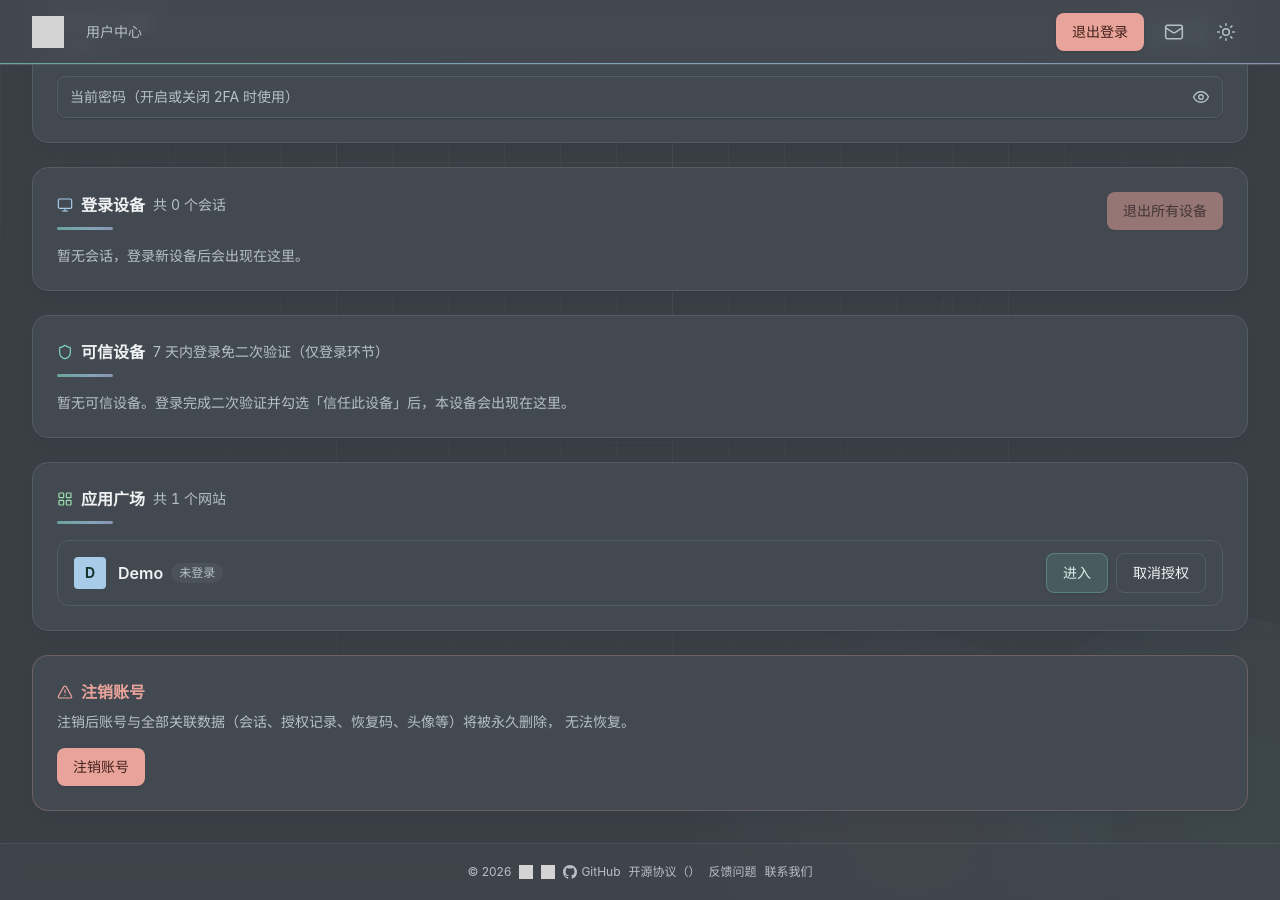
it: DashboardPage › 仅回程登出的网站取消授权后提示已通知退出
This screenshot has width=1280, height=900.
(page scrolled)
Expected: the text "Demo" is shown, [118, 561, 163, 585]
Click the button "取消授权". click: (1161,573)
box: [1116, 553, 1206, 593]
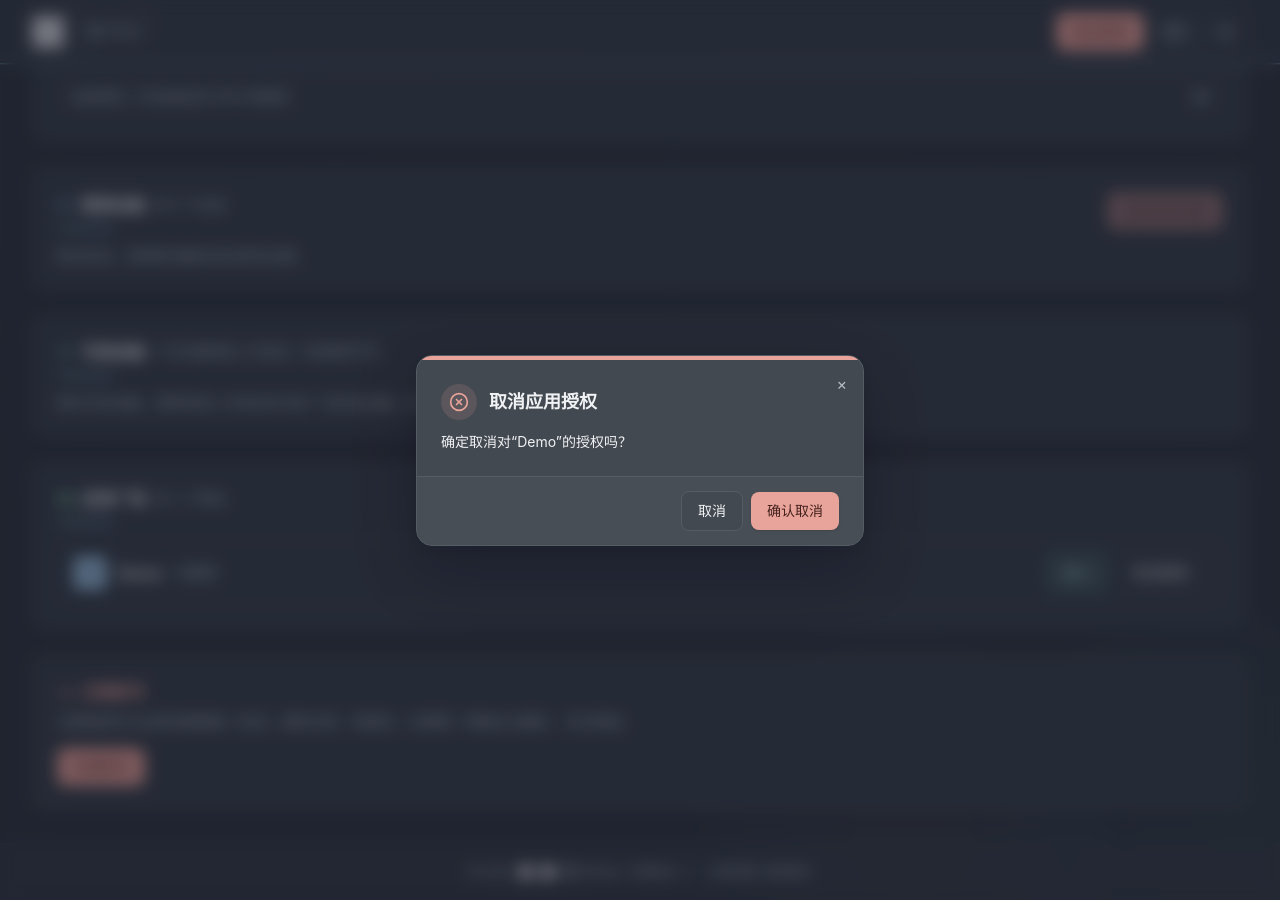
Click the button "确认取消". click: (795,510)
box: [751, 492, 839, 530]
(page scrolled)
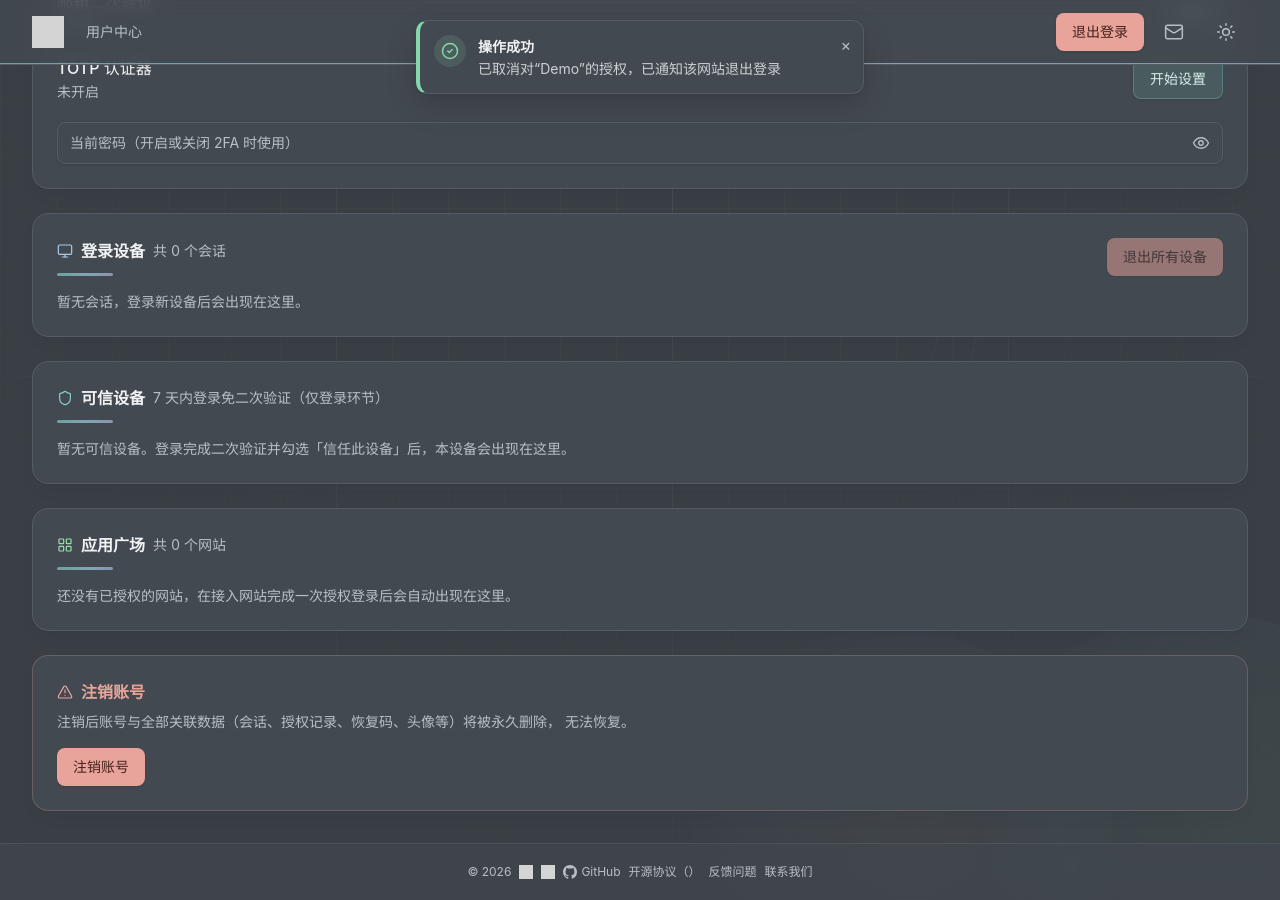
Result: the text "已取消对“Demo”的授权，已通知该网站退出登录" is shown at [478, 59, 823, 79]
